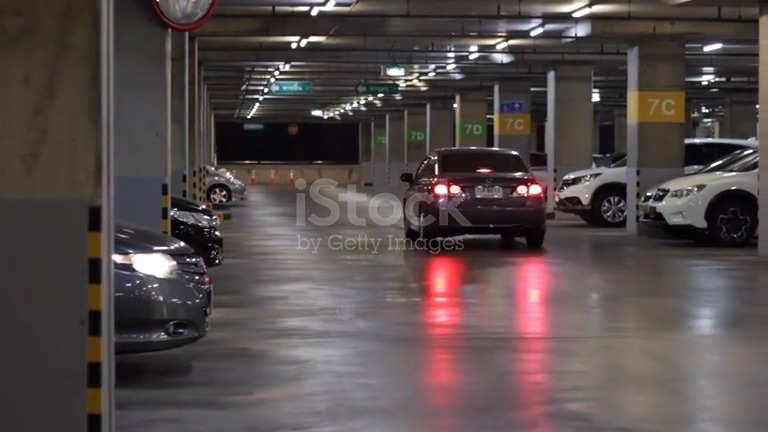car: (400, 147, 547, 248), (112, 221, 212, 353), (642, 150, 758, 246), (556, 153, 627, 225), (170, 196, 222, 266), (677, 138, 757, 174), (204, 166, 246, 203)
